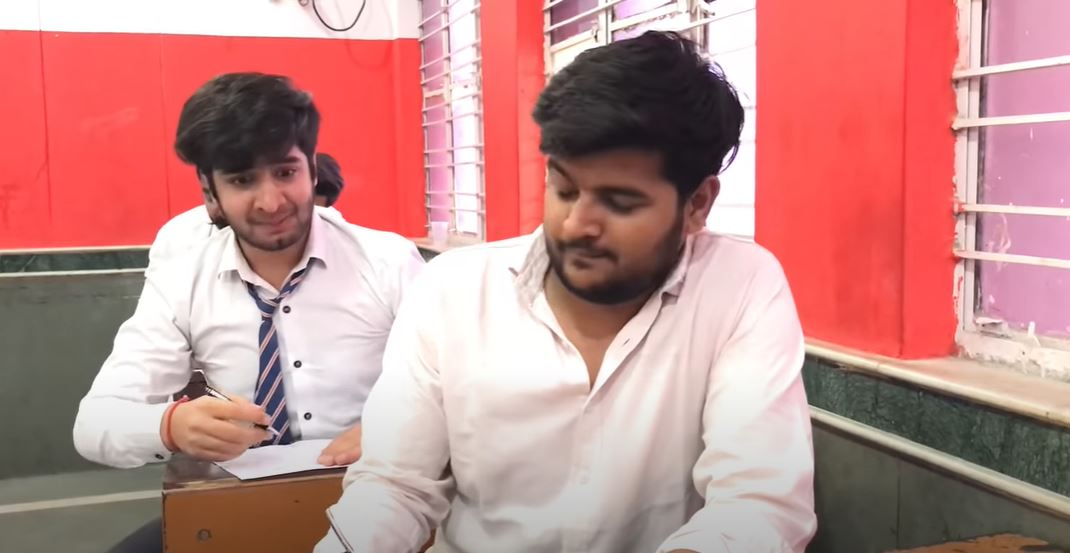student: (464, 67, 807, 496)
studentcopying: (173, 85, 449, 360)
